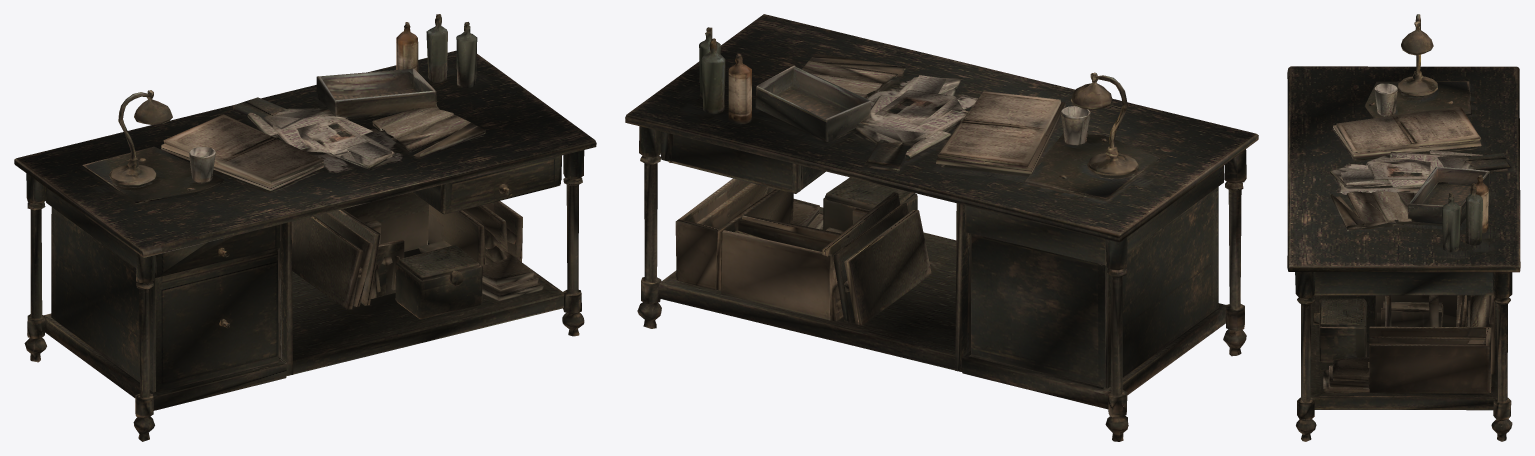
File: desk.fbx
The picture shows the model from 3 angles, left to right: view 1: azimuth 30°, elevation 25°; view 2: azimuth 150°, elevation 25°; view 3: azimuth 270°, elevation 25°; orthographic projection. The views are drawn at different scales.
Parts seen in each view (by area): view 1: mesh_node; view 2: mesh_node; view 3: mesh_node.
Boxes of the visible parts, x1=… form: mesh_node: x1=14, y1=14, x2=596, y2=441; mesh_node: x1=625, y1=14, x2=1258, y2=441; mesh_node: x1=1287, y1=14, x2=1520, y2=441.
Bounding box in the file's own units: 100 × 60.55 × 49.32.
Materials: 1 (1 with a texture image).
